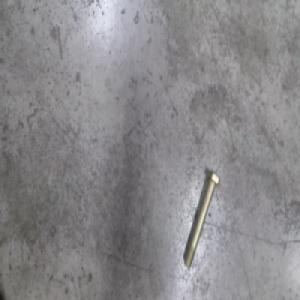Bolt: (183, 173, 220, 270)
